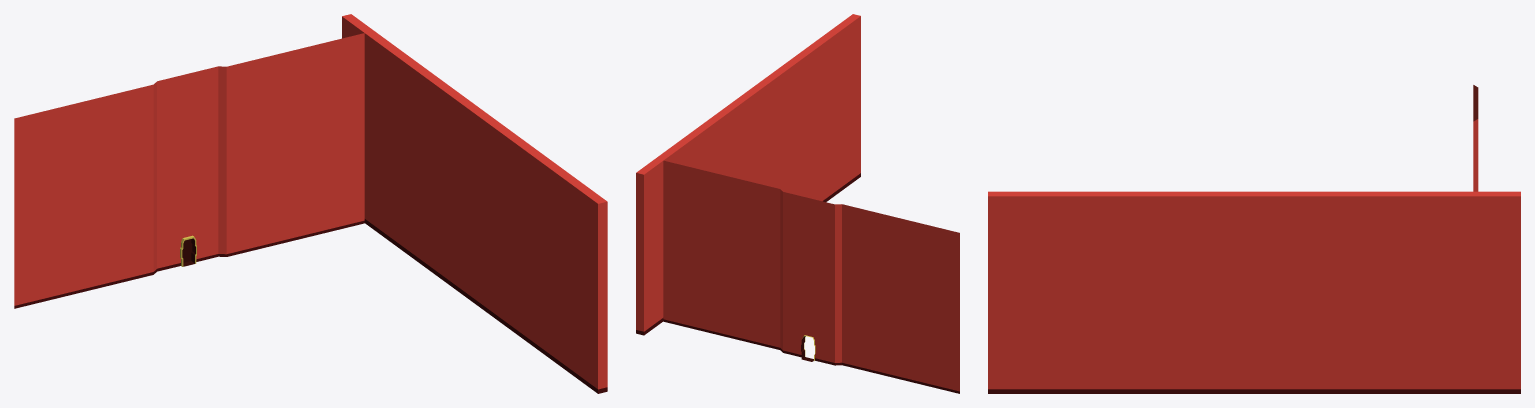
Rendered from door_1_wall_1.fbx.
3 views of the same model, side by side, from view 1: azimuth 30°, elevation 25°; view 2: azimuth 150°, elevation 25°; view 3: azimuth 270°, elevation 25° (orthographic). The views are drawn at different scales.
Parts seen in each view (by area): view 1: wall_1, wall_3; view 2: wall_1, wall_3; view 3: wall_3, wall_1.
Boxes of the visible parts, left/top/right/bottom form: wall_1: left=14, top=33, right=364, bottom=308; wall_3: left=342, top=14, right=607, bottom=393; wall_1: left=663, top=160, right=959, bottom=393; wall_3: left=636, top=14, right=860, bottom=335; wall_3: left=988, top=191, right=1520, bottom=393; wall_1: left=1473, top=85, right=1478, bottom=191.
Bounding box in the file's own units: 3736 × 1891 × 4611.
